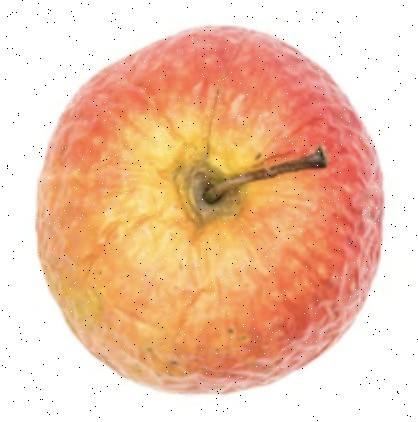rotten_apple: (35, 26, 385, 394)
